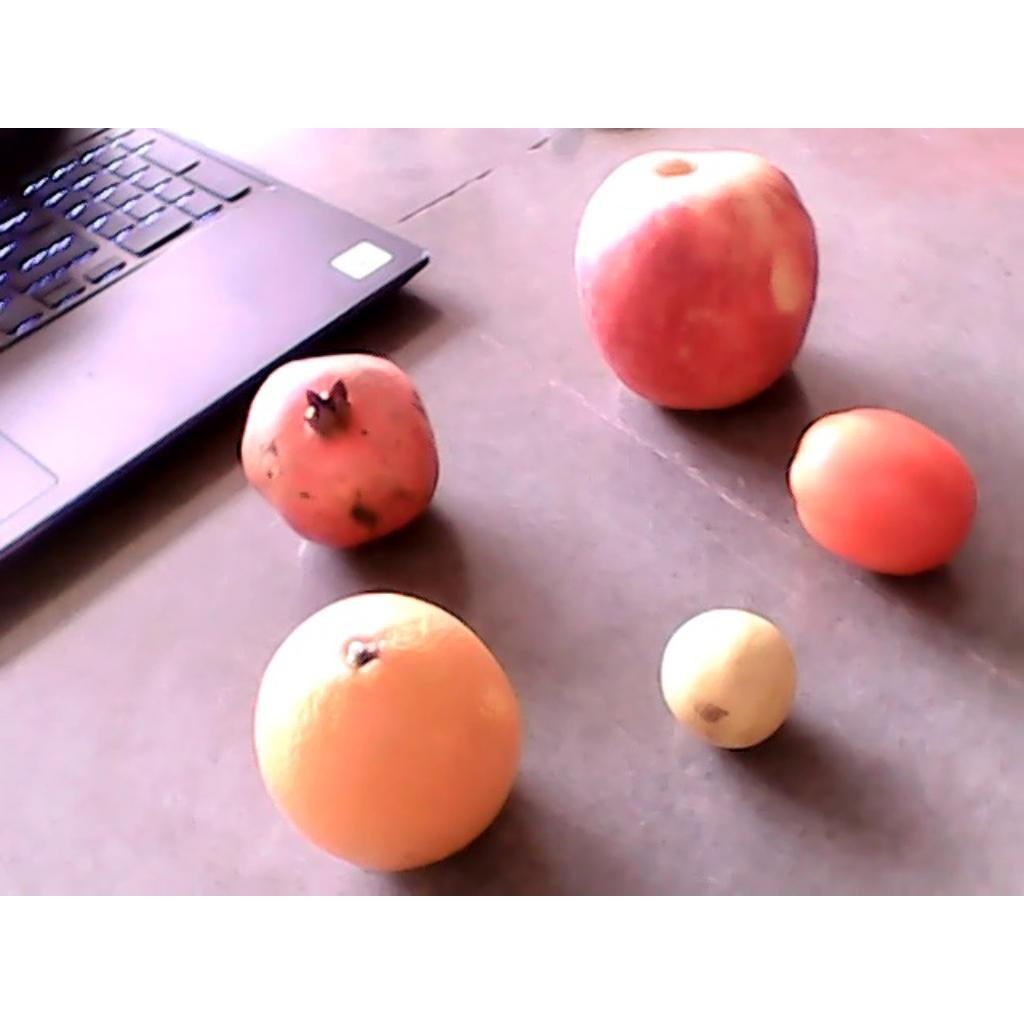apple: (572, 148, 821, 410)
lemon: (659, 605, 796, 747)
orange: (257, 592, 520, 870)
pomegranate: (243, 354, 439, 548)
tomato: (790, 408, 977, 577)
